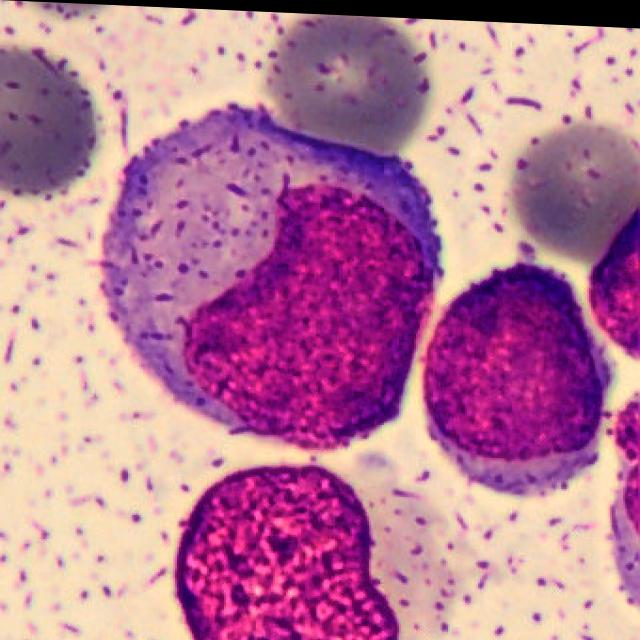Mieloblasto: (98, 100, 442, 445), (422, 256, 608, 490)
Restos celulares: (173, 460, 401, 640)
